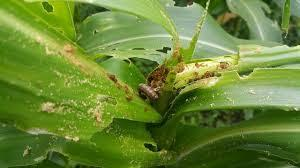fallarmy_worm: (134, 80, 163, 105)
